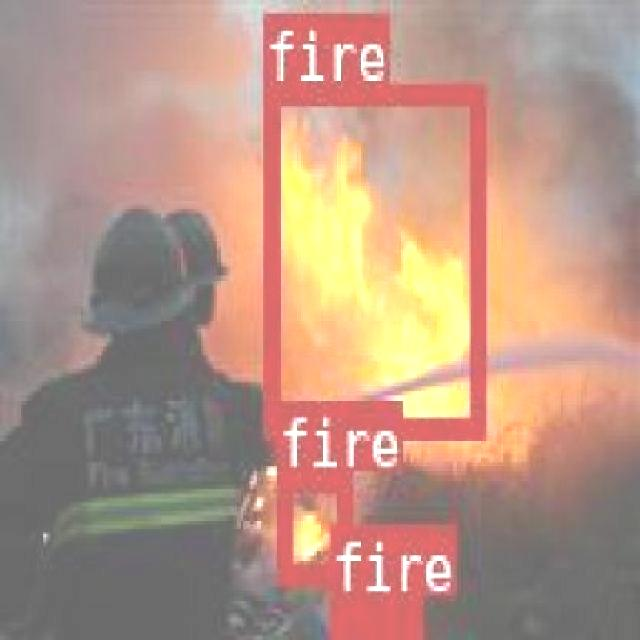fire: (262, 84, 481, 436), (276, 469, 350, 580), (328, 593, 417, 632)
